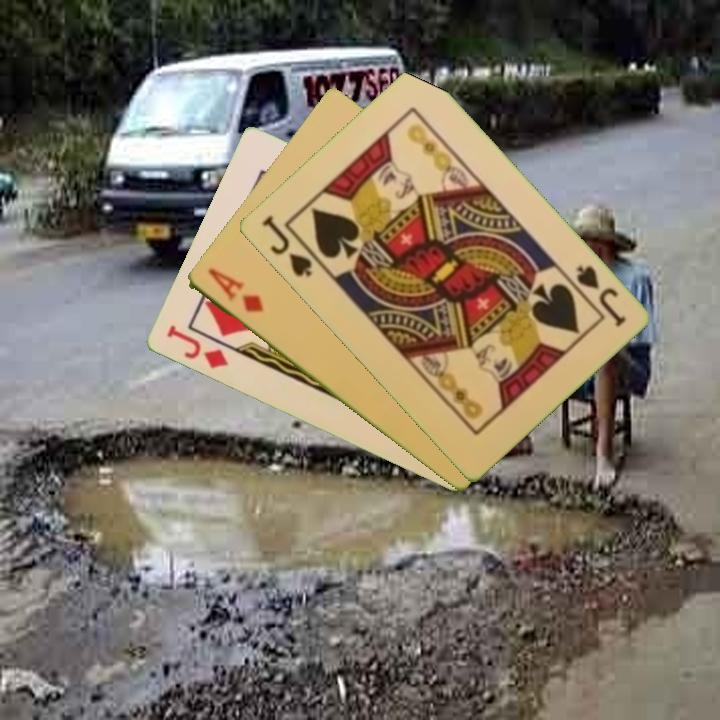Ad: (204, 264, 266, 316)
Jd: (162, 322, 231, 372)
Js: (258, 211, 315, 280), (572, 262, 628, 330)
